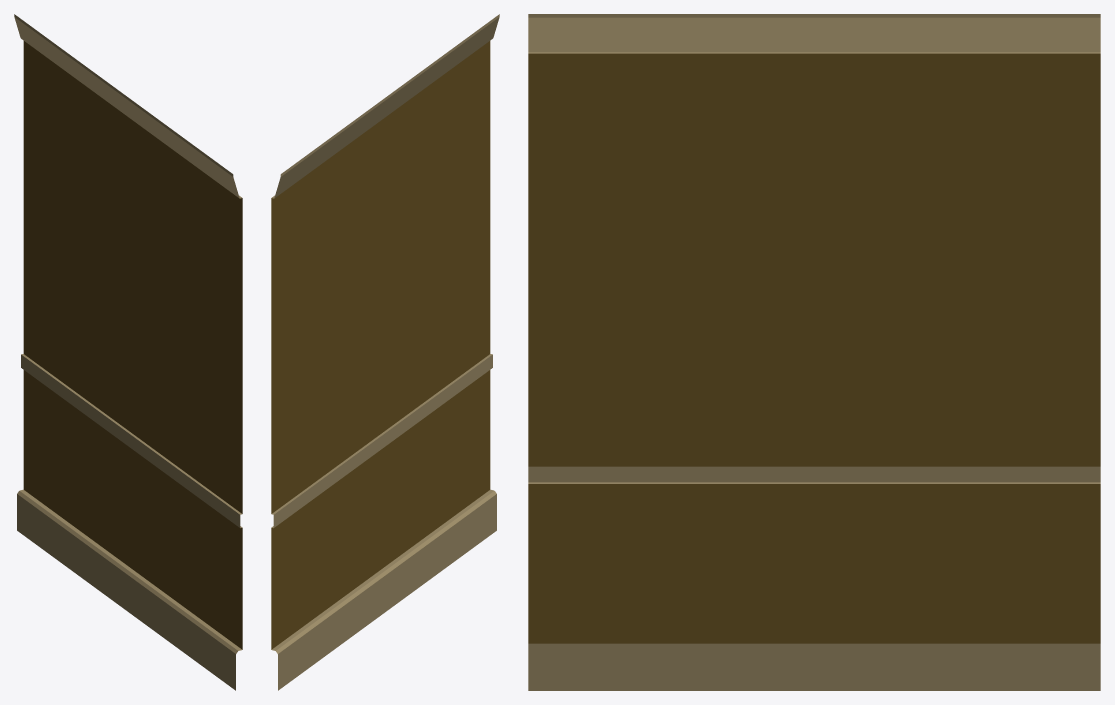
The model's file is Fancy Wall 1.fbx.
3 renders of one model, left to right at view 1: azimuth 30°, elevation 25°; view 2: azimuth 150°, elevation 25°; view 3: azimuth 270°, elevation 25°, orthographic. The views are drawn at different scales.
Visible parts, largest first — view 1: pPlane10; view 2: pPlane10; view 3: pPlane10.
Boxes of the visible parts, x1,y1,x2,y2 form: pPlane10: [14, 14, 242, 690]; pPlane10: [271, 14, 499, 690]; pPlane10: [528, 14, 1100, 690].
Size of the model in its own units: 4.03 by 215 by 165.
